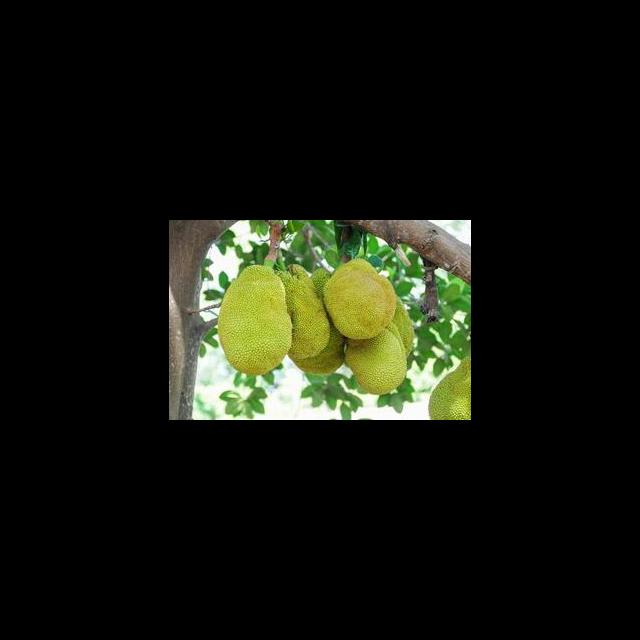mit: (219, 263, 293, 373), (323, 260, 401, 343), (276, 268, 332, 361), (345, 336, 412, 397), (428, 353, 471, 420), (287, 356, 345, 377)
